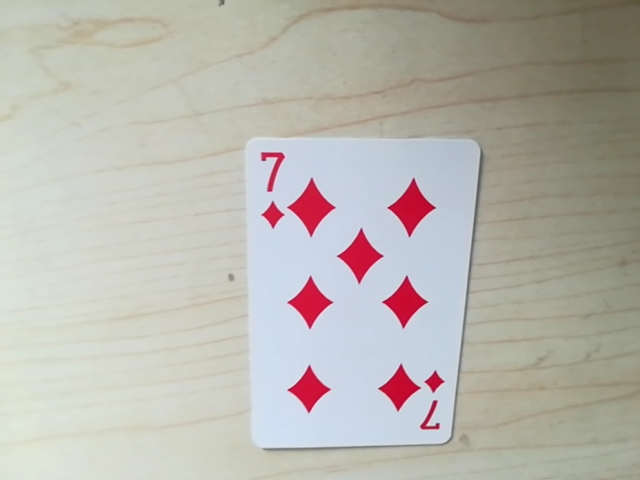fk 7: (413, 393, 445, 441), (255, 140, 292, 180)
